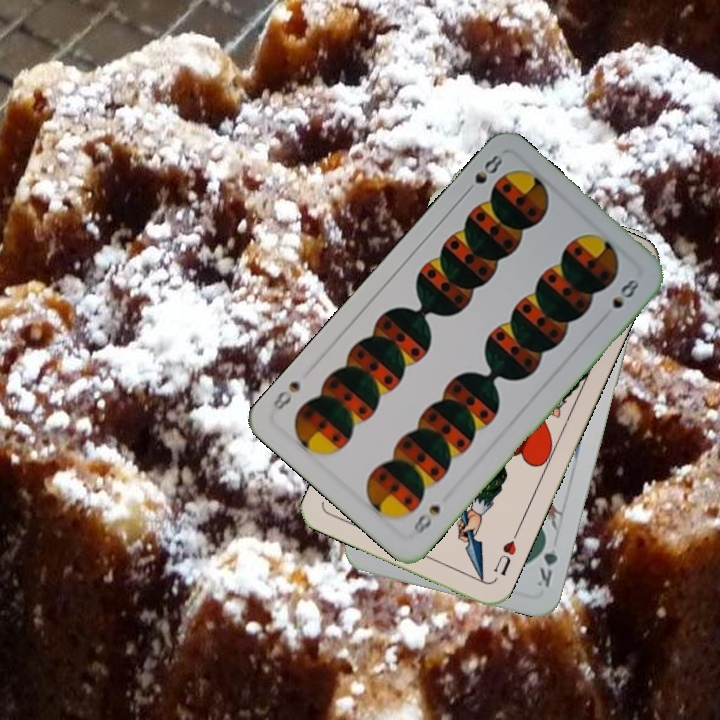GK: (533, 532, 561, 590)
HU: (489, 527, 521, 579)
S8: (459, 150, 506, 199), (409, 500, 444, 540)
